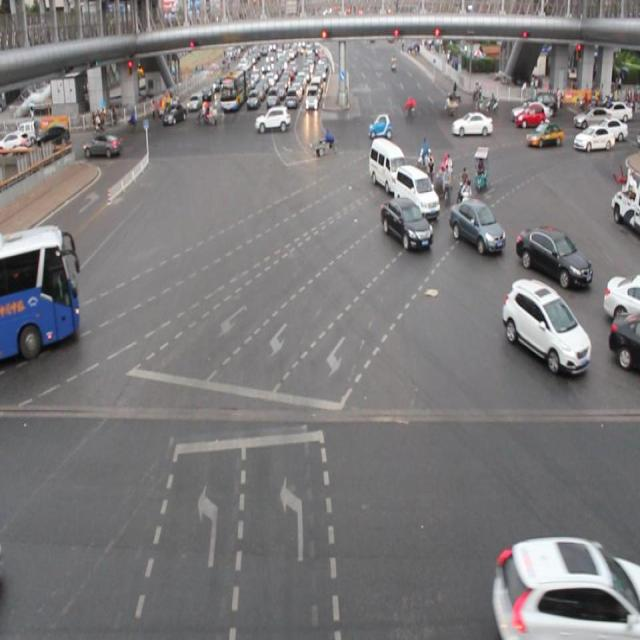car: (491, 532, 640, 640), (502, 278, 589, 373), (516, 217, 590, 291), (449, 197, 503, 252), (381, 198, 430, 250), (600, 264, 640, 326), (605, 311, 640, 369), (574, 125, 614, 152), (451, 112, 492, 135), (525, 123, 562, 146), (85, 135, 121, 158), (254, 109, 291, 130), (518, 105, 543, 128)
truck: (396, 166, 441, 217), (370, 138, 406, 193)
van: (1, 231, 83, 366)
